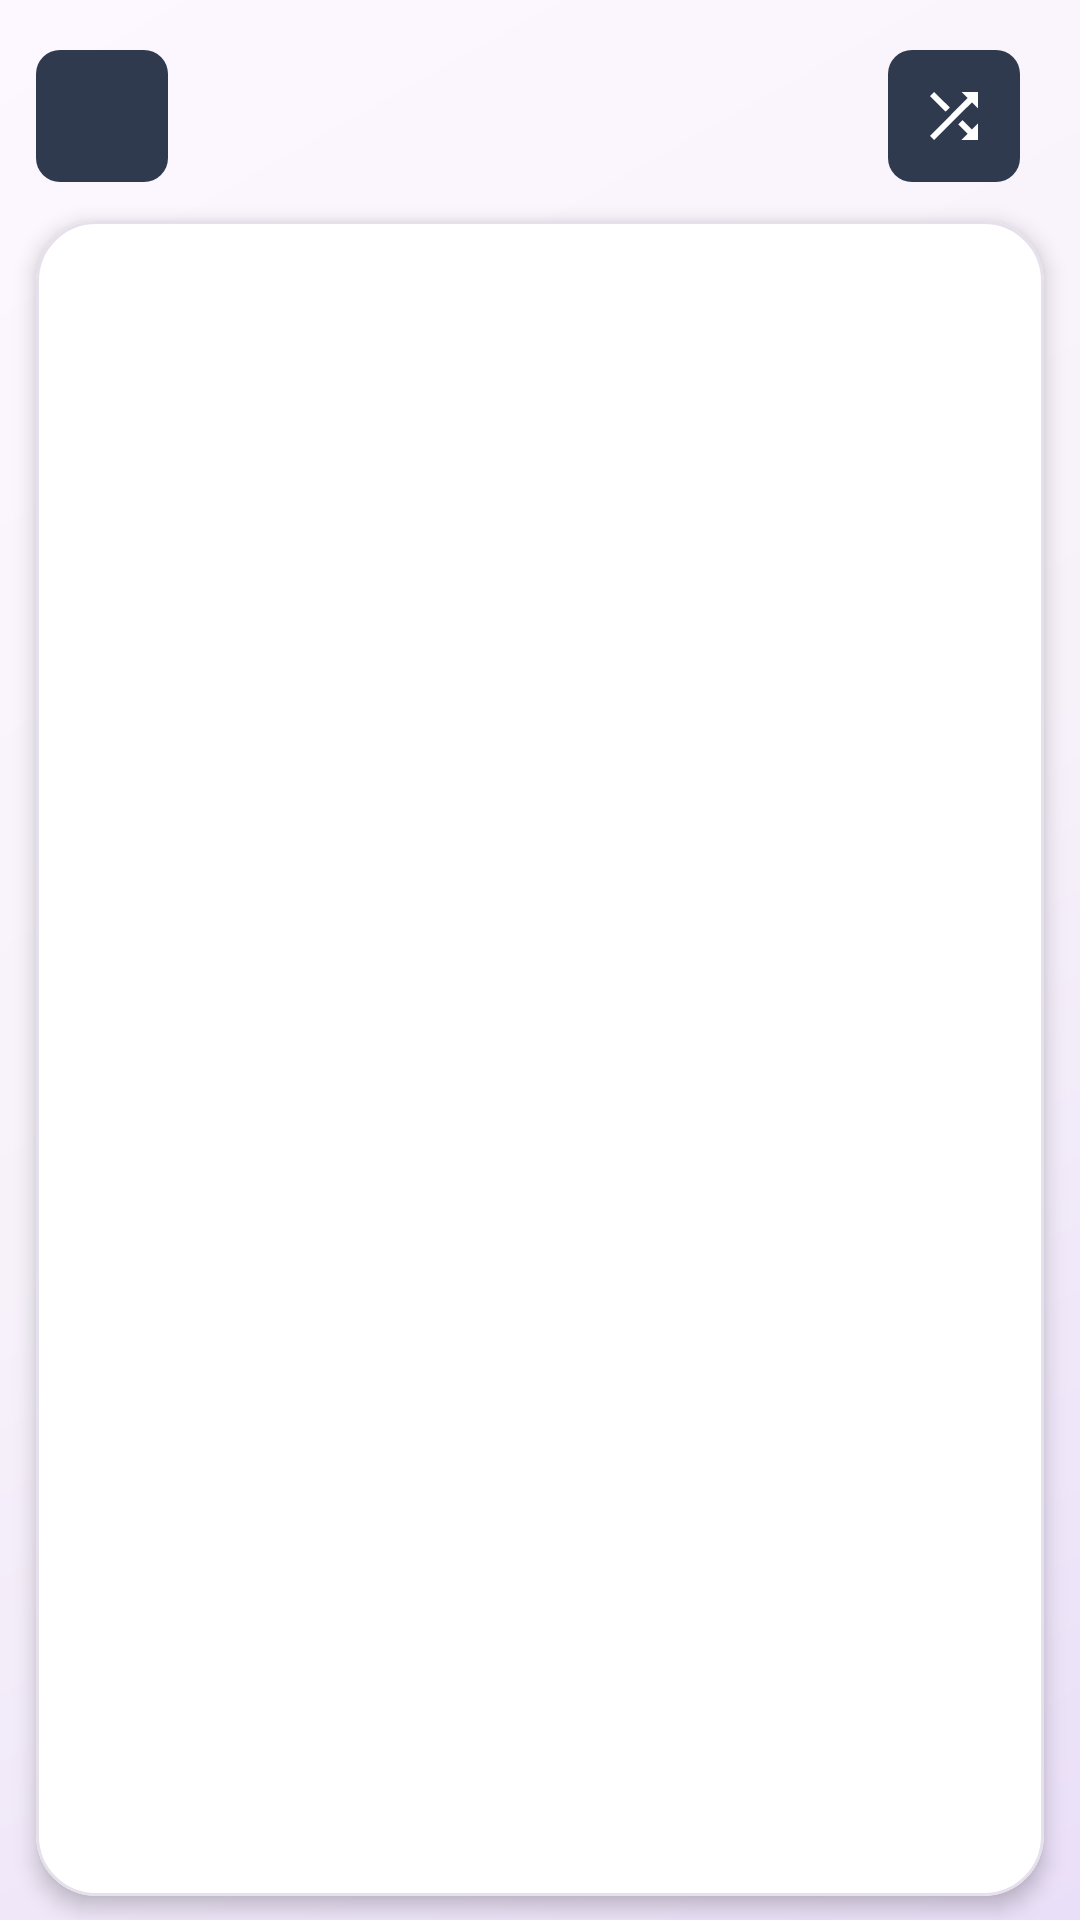

Named icons in this screenshot (1080px x 1920px) and their bounding boxes, (x1, y1, x2, y2):
Shuffle: (888, 50, 1020, 182)
